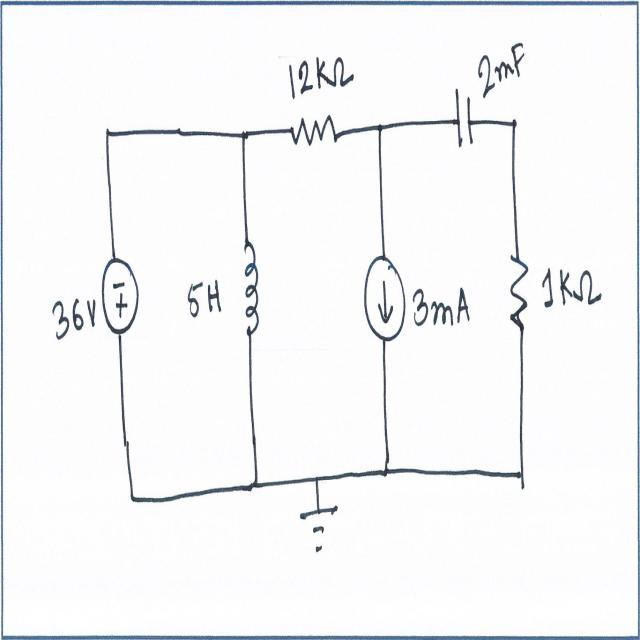capacitor: (453, 81, 474, 152)
current_source: (361, 251, 407, 342)
ground: (298, 501, 341, 558)
inductor: (242, 241, 261, 339)
resistor: (290, 110, 337, 156), (507, 246, 530, 334)
voltage_source: (98, 255, 142, 339)
